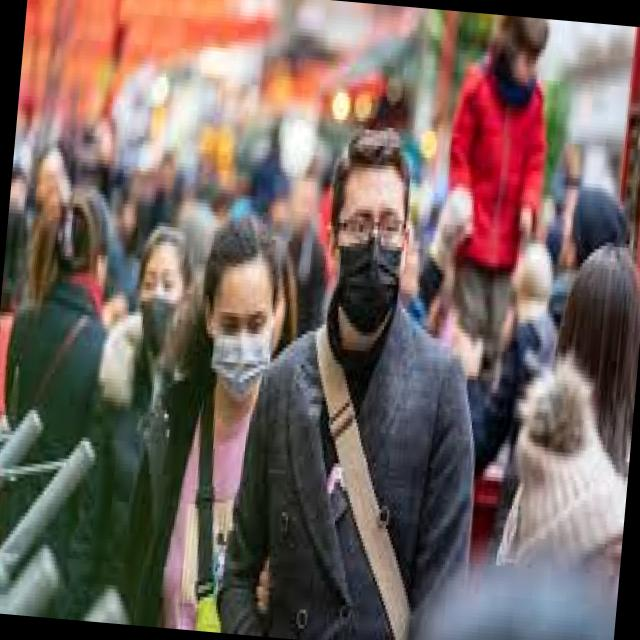Jacket: (224, 318, 494, 640), (426, 68, 566, 290)
